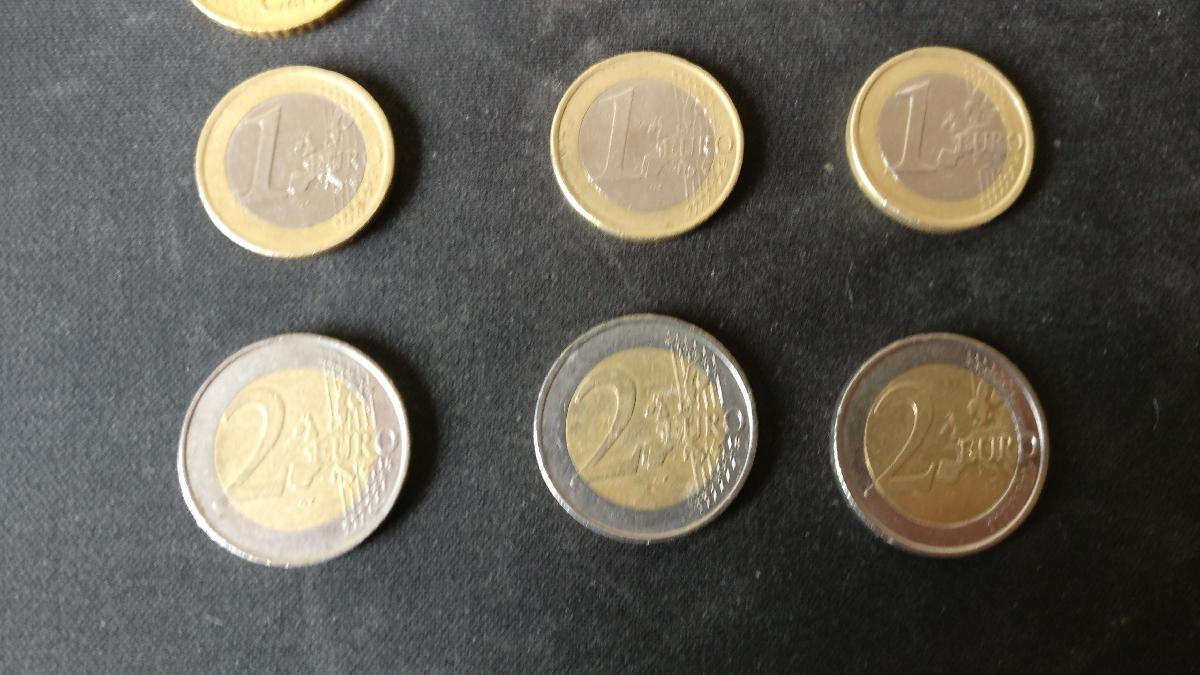Fifty Cent: (186, 1, 361, 40)
One Euro: (193, 62, 399, 260), (550, 51, 746, 245), (846, 45, 1037, 237)
Two Euro: (174, 329, 413, 569), (534, 313, 761, 546), (829, 328, 1054, 562)
